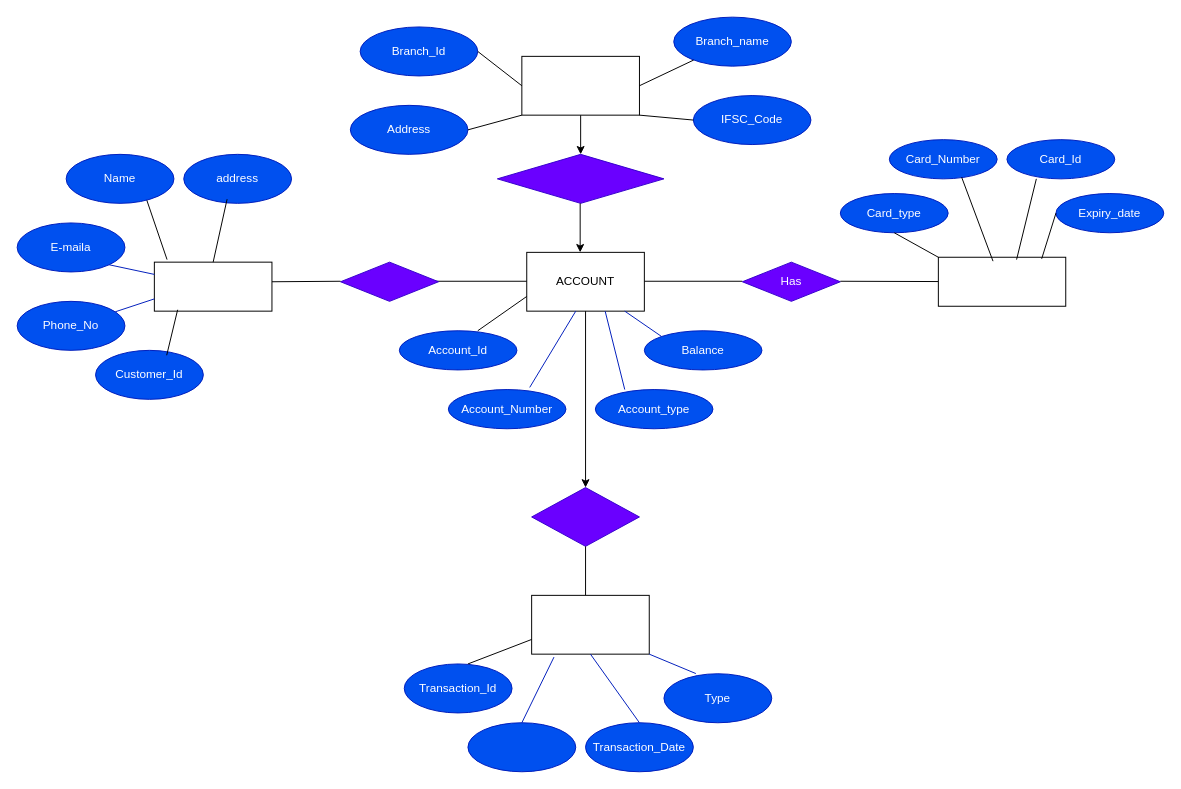
Image size: 1181x789. Some labels were removed from this diagram. The shapes that lost their labels are listed below. From the top down, each one's centre as x and y in pixels, then its label:
the point at 580,85: BRANCH
the point at 580,178: Operates
the point at 212,286: CUSTOMER
the point at 389,281: Owns
the point at 1001,281: CARD
the point at 585,516: Transacts
the point at 590,624: TRANSACTION
the point at 521,747: Amount
